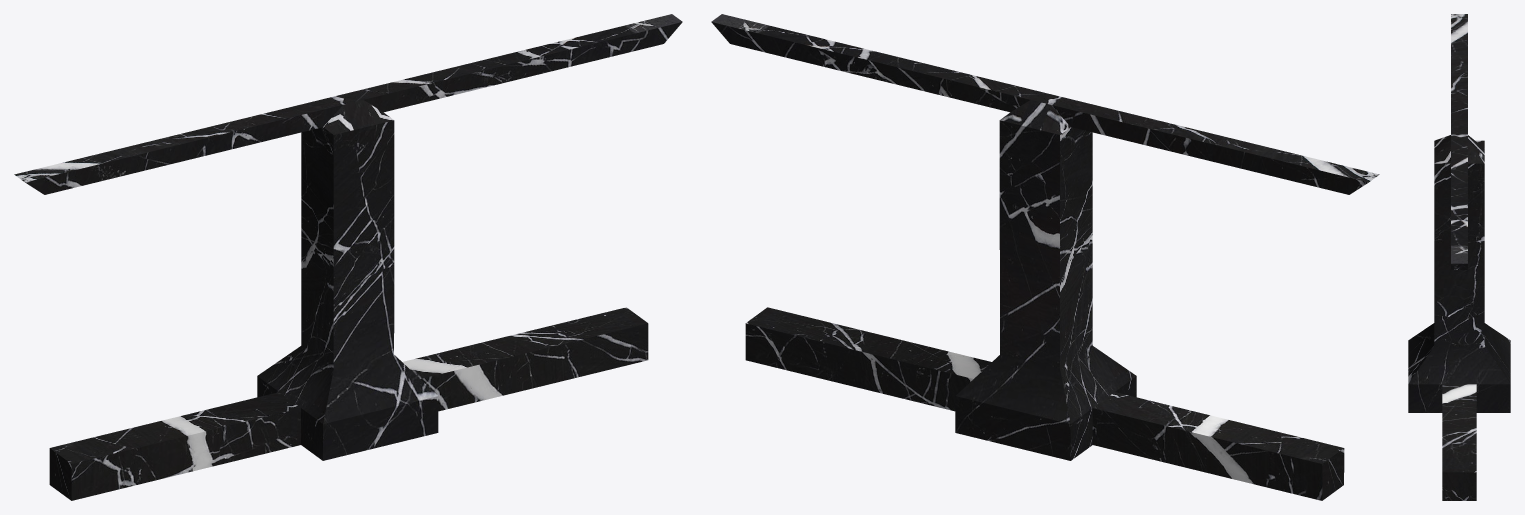
Rendered from rail2.fbx.
The picture shows the model from 3 angles, left to right: view 1: azimuth 30°, elevation 25°; view 2: azimuth 150°, elevation 25°; view 3: azimuth 270°, elevation 25°; orthographic projection. The views are drawn at different scales.
Visible parts, largest first — view 1: pCube1; view 2: pCube1; view 3: pCube1.
Part boxes in pixels (x1,y1,x2,y2): pCube1: [14, 14, 682, 500]; pCube1: [711, 14, 1379, 500]; pCube1: [1408, 14, 1510, 500].
Size of the model in its own units: 79.95 by 37.68 by 13.87.
1 material, 1 textured.
